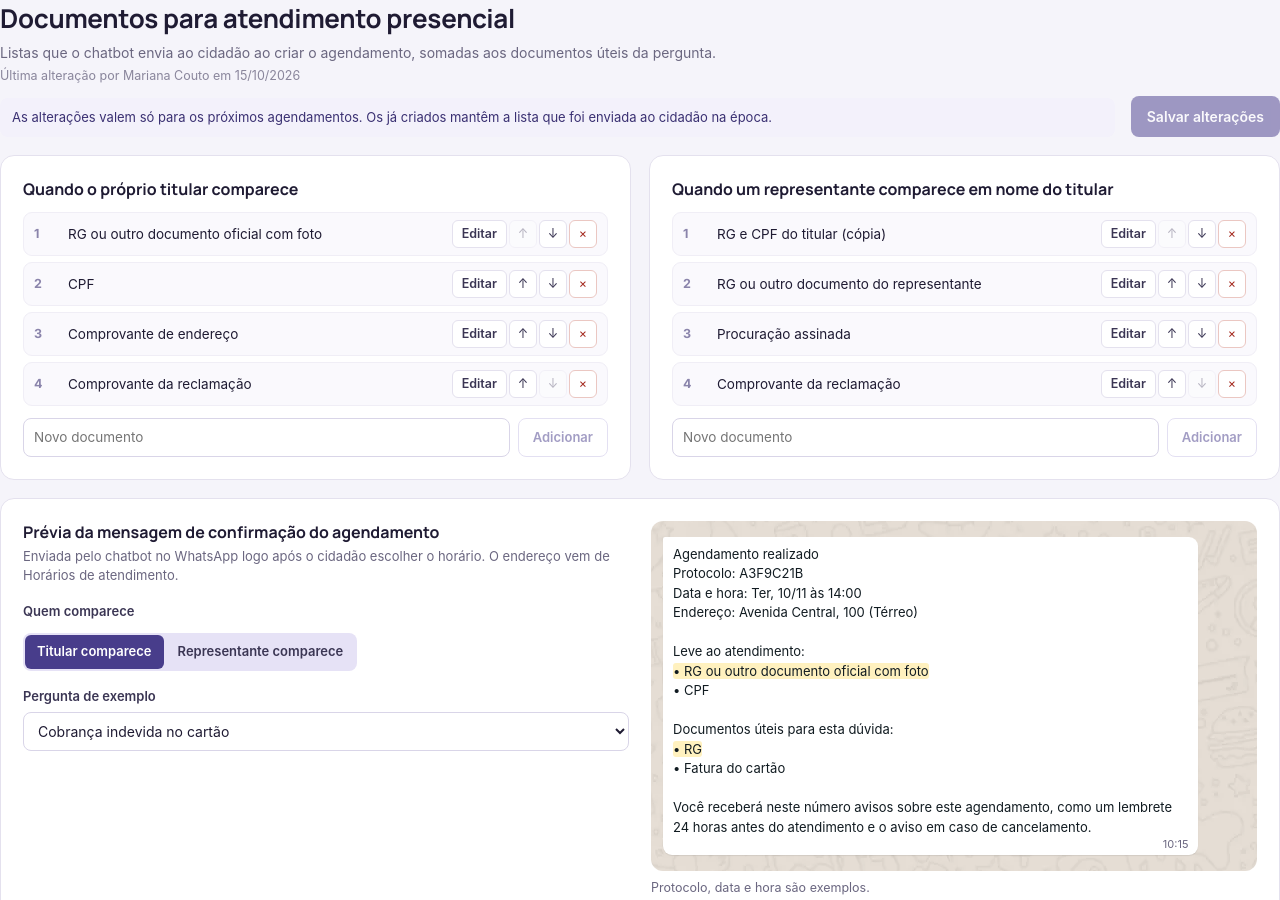
Test: DocumentsPage › exibe alerta de grupo vazio mas permite salvar
expect the heading "Quando o próprio titular comparece" is shown: met, box [23,178,298,200]
Click the 1st button titled "Remover" at point(583, 234), box [569,220,597,248]
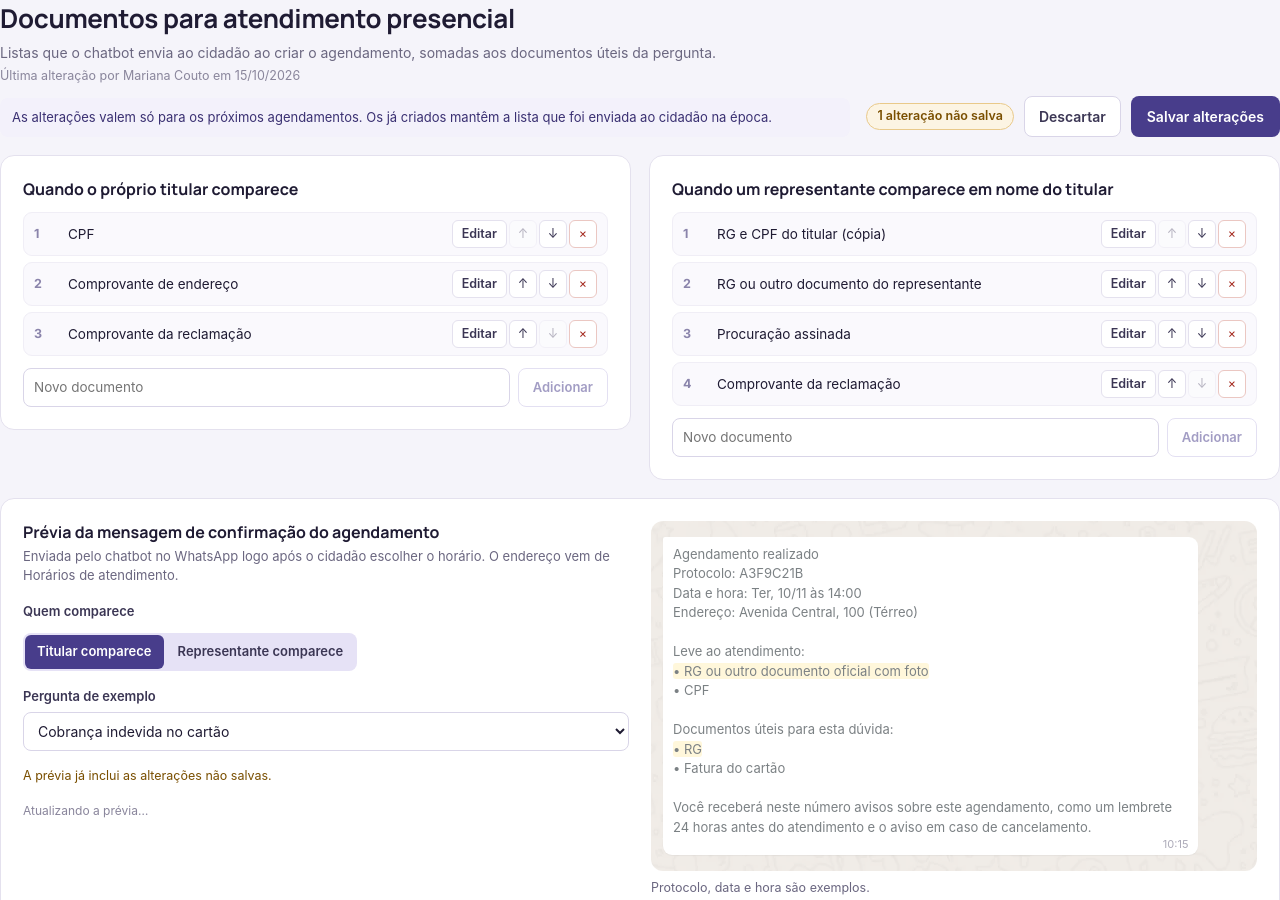
Click the 1st button titled "Remover" at point(583, 234), box [569,220,597,248]
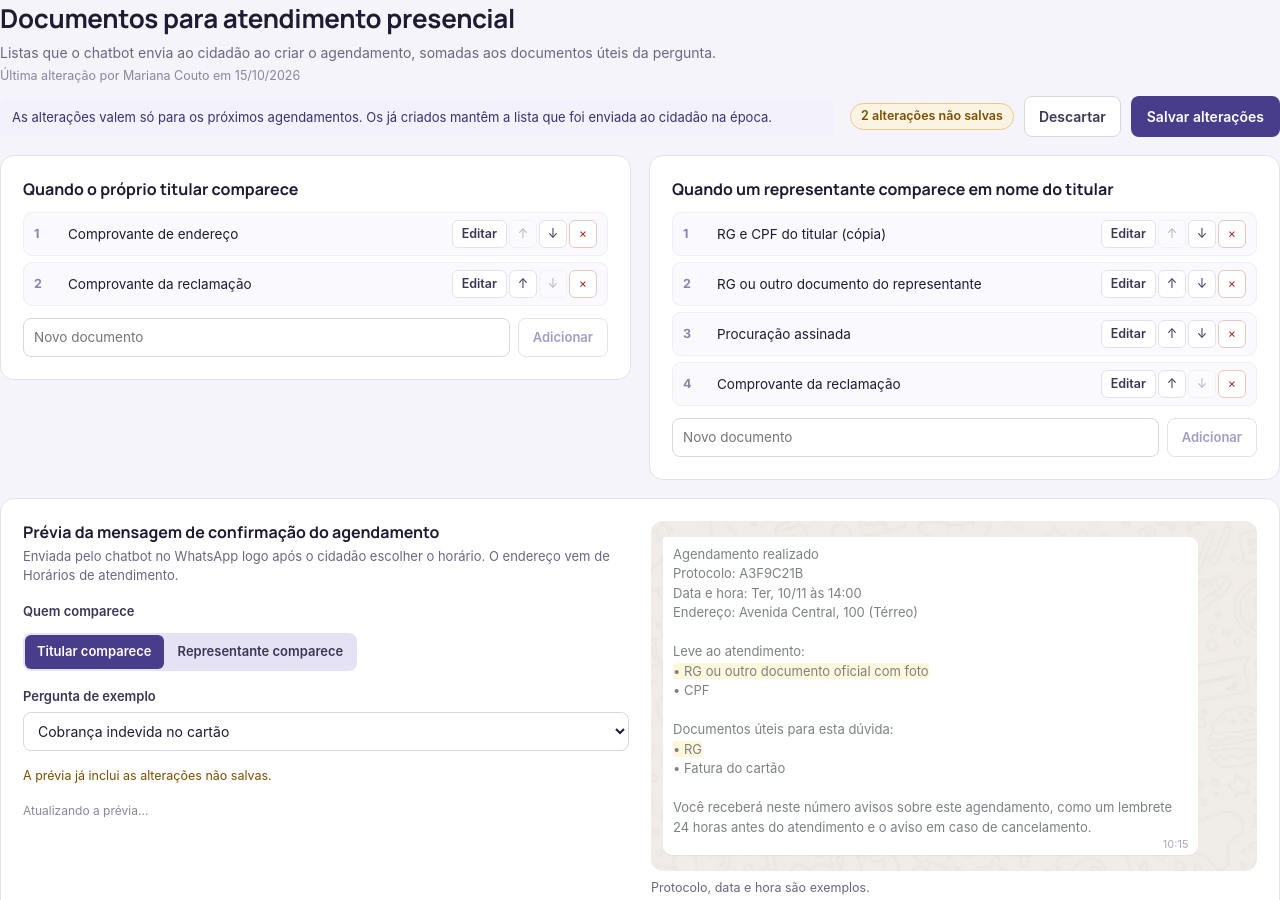
Click the 1st button titled "Remover" at point(583, 234), box [569,220,597,248]
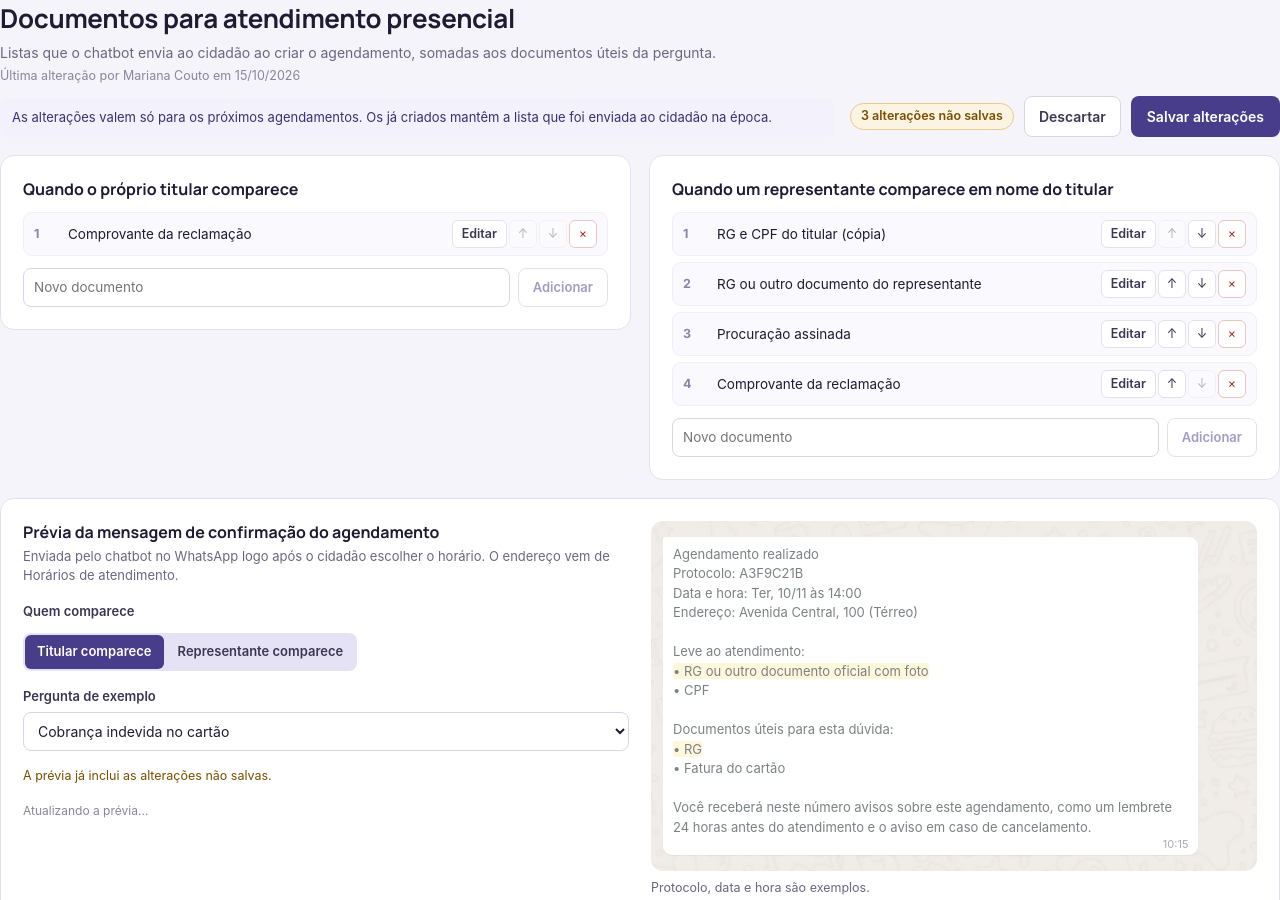
Click the 1st button titled "Remover" at point(583, 234), box [569,220,597,248]
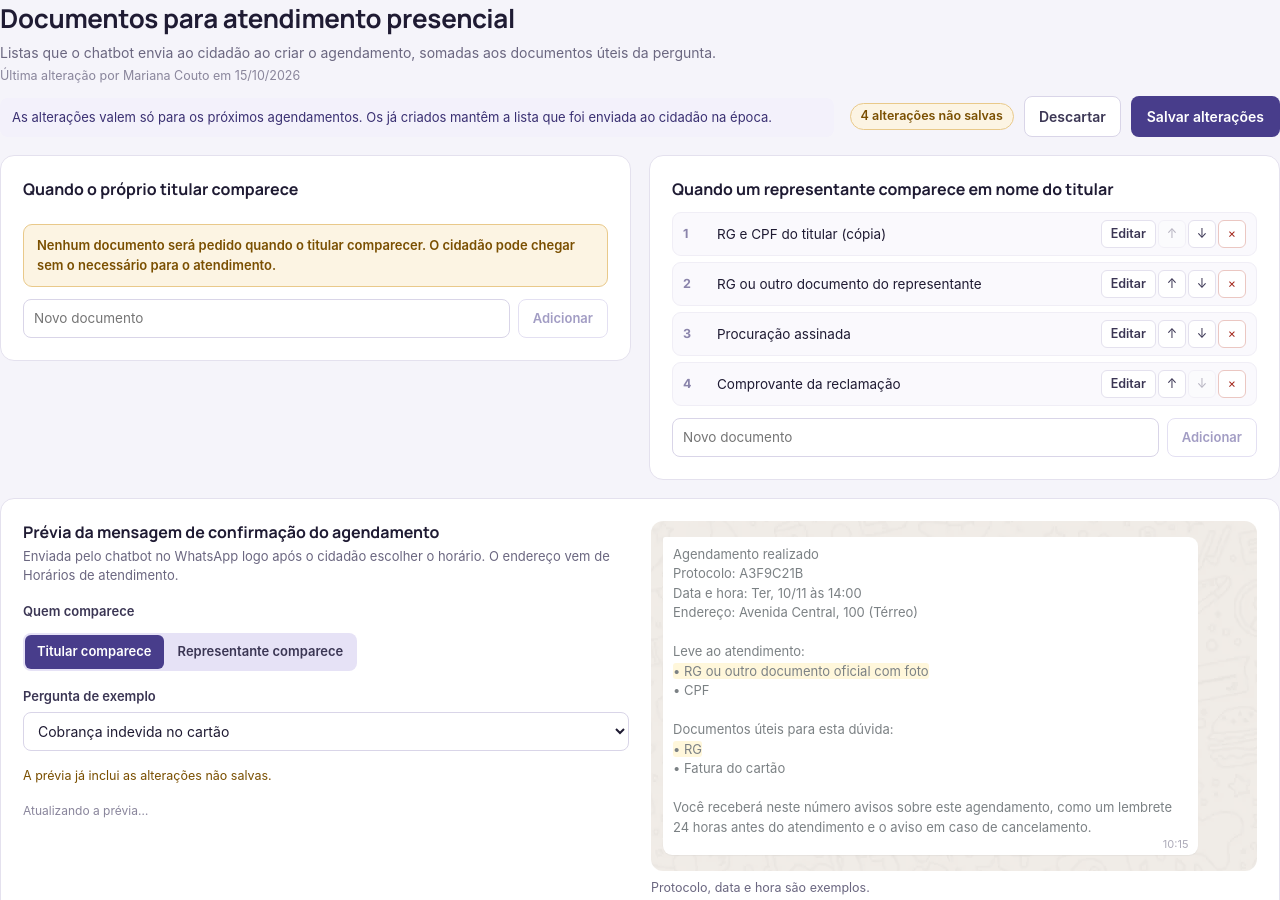
expect the button "Salvar alterações" is enabled: met
expect the text "Nenhum documento será pedido quando o titular comparecer. O cidadão pode chegar sem o necessário para o atendimento." is shown: met, box [37,237,575,273]
Click the button "Salvar alterações" at point(1205, 117), box [1131,96,1279,137]
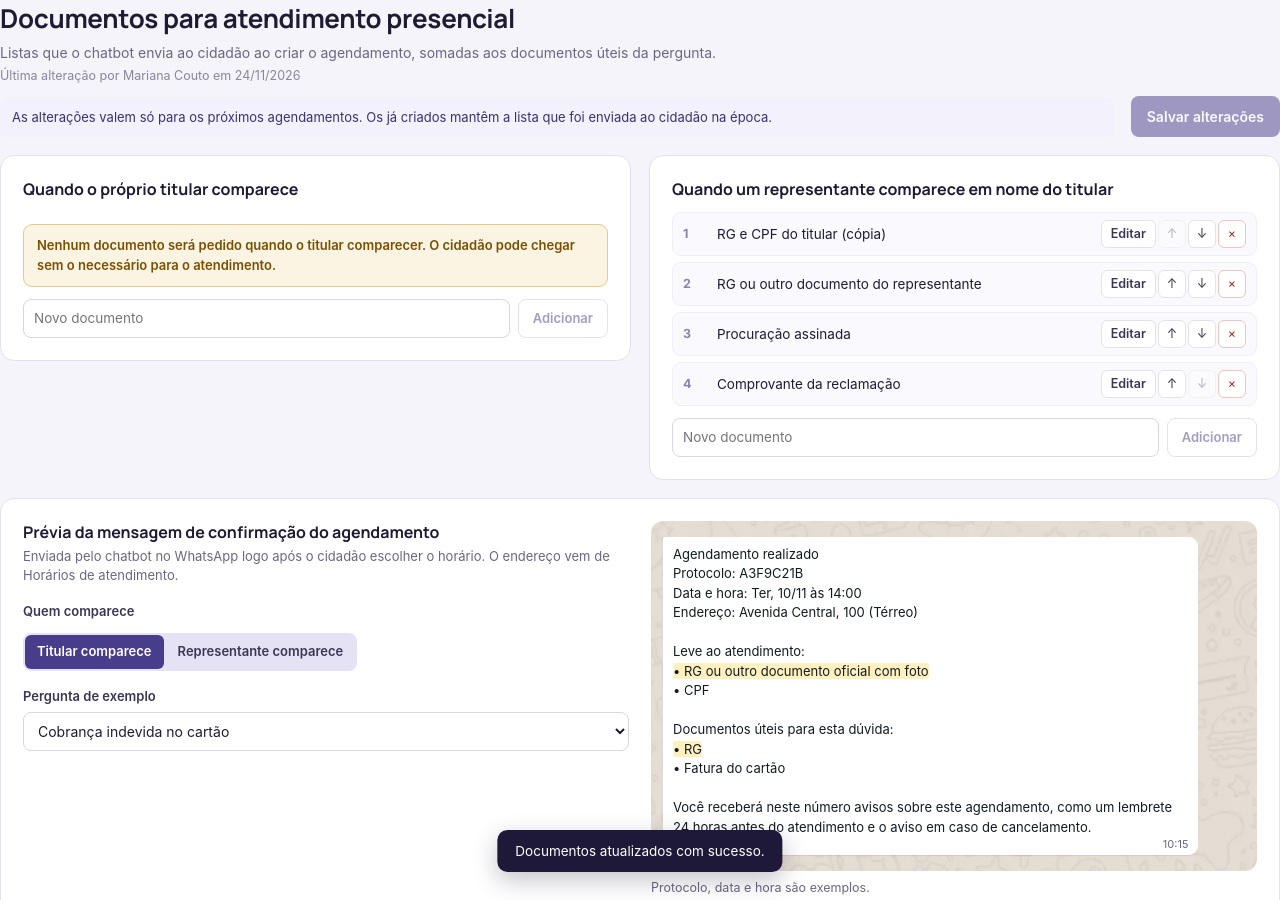
expect the text "Documentos atualizados com sucesso." is shown: met, box [497,830,783,872]
